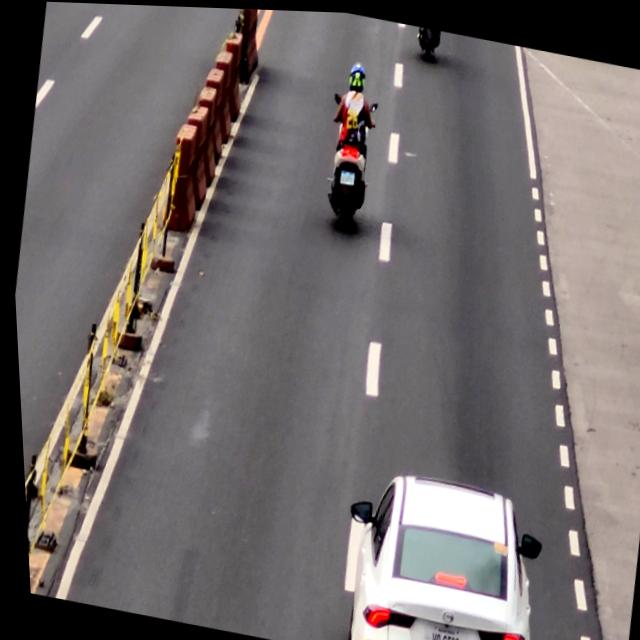Car: (321, 457, 550, 640)
License-Plate: (413, 621, 462, 640), (337, 169, 354, 184)
Motorcycle: (313, 86, 384, 234)
